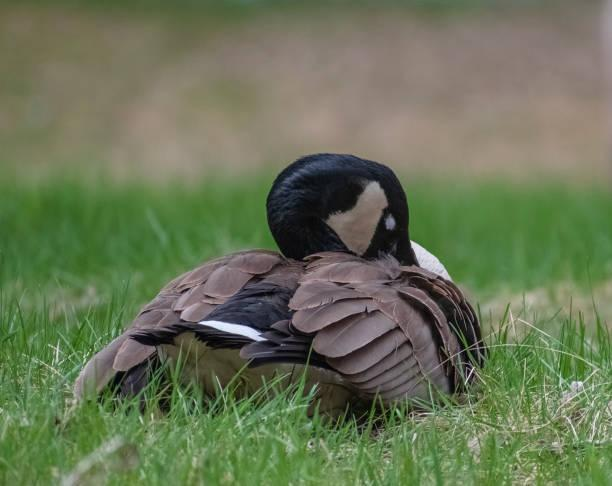Canadian-Goose: (67, 150, 487, 418)
